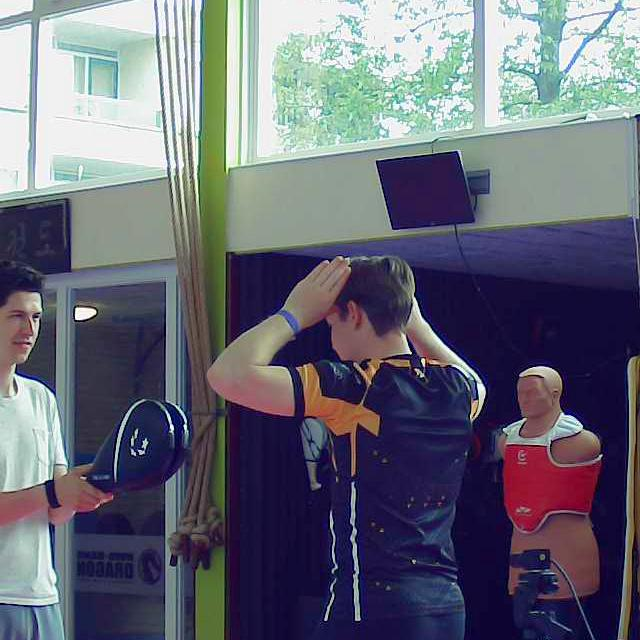paddle: (80, 399, 192, 493)
